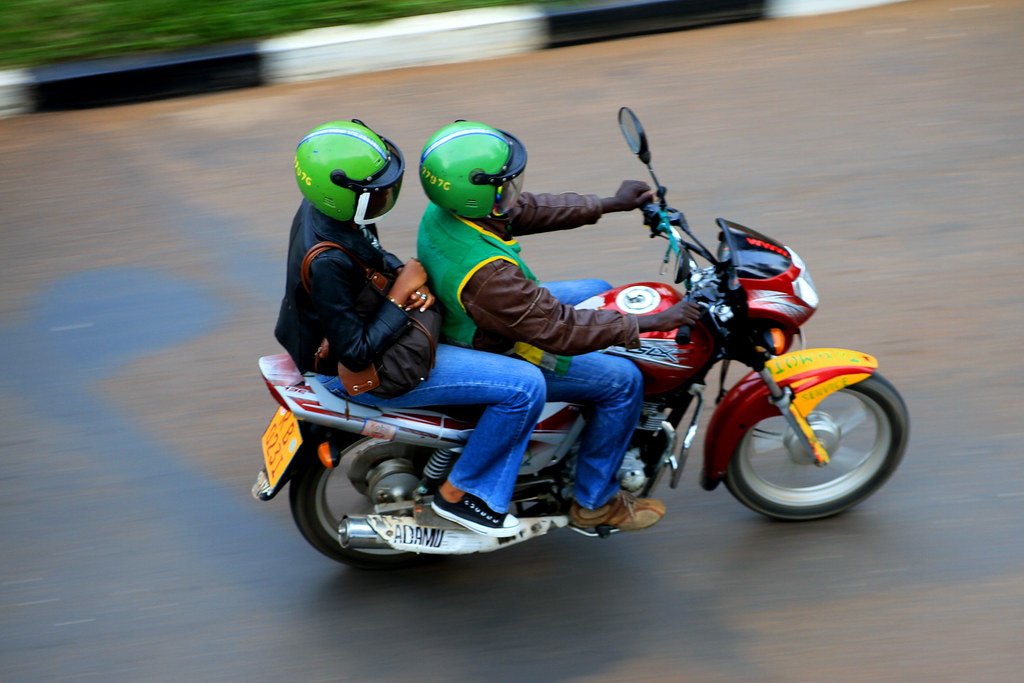helmet: (285, 114, 400, 215), (412, 127, 521, 223)
